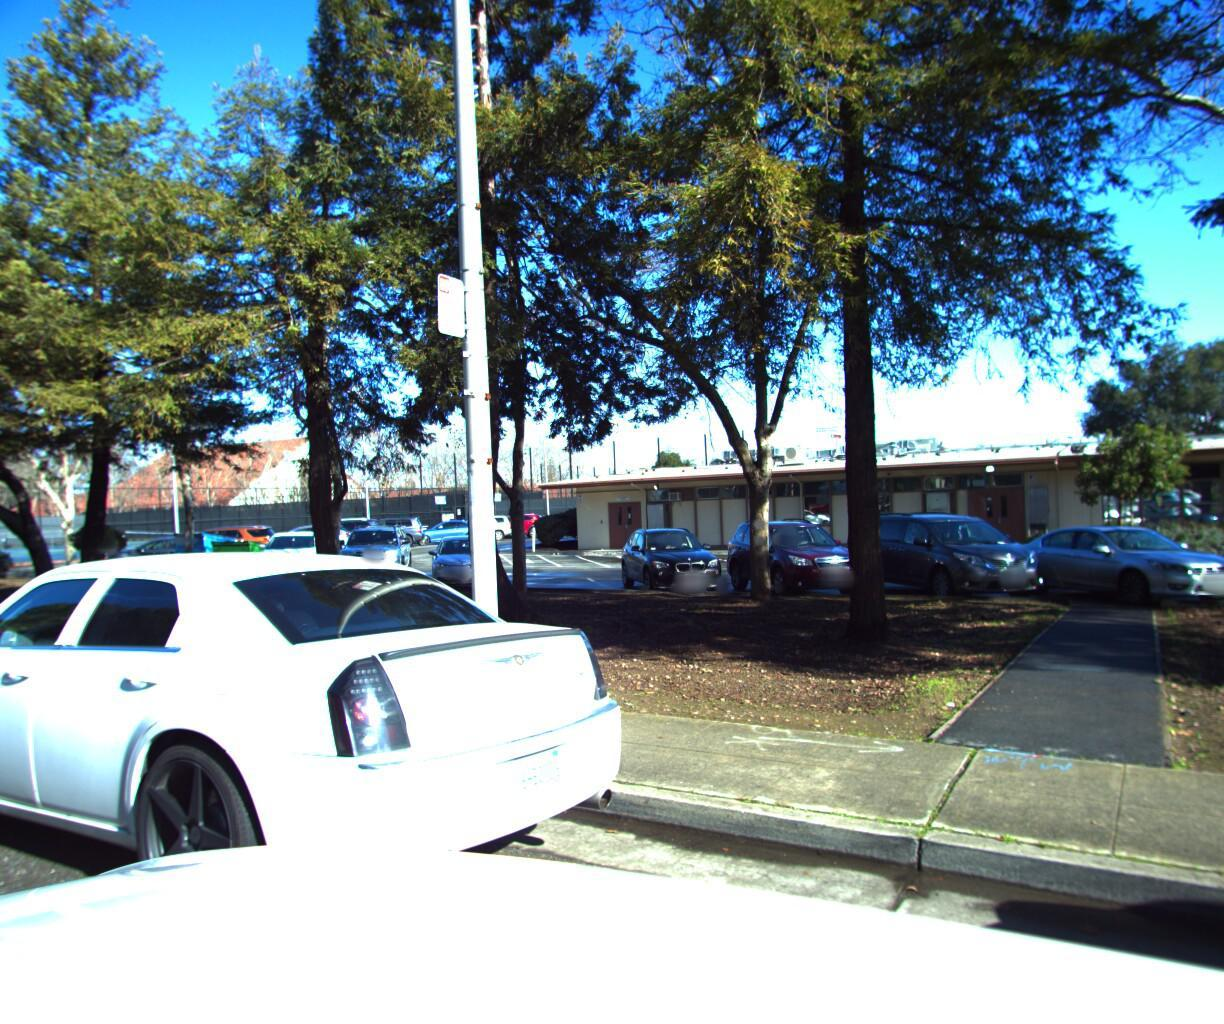car: (0, 532, 654, 1024), (0, 545, 40, 767)
